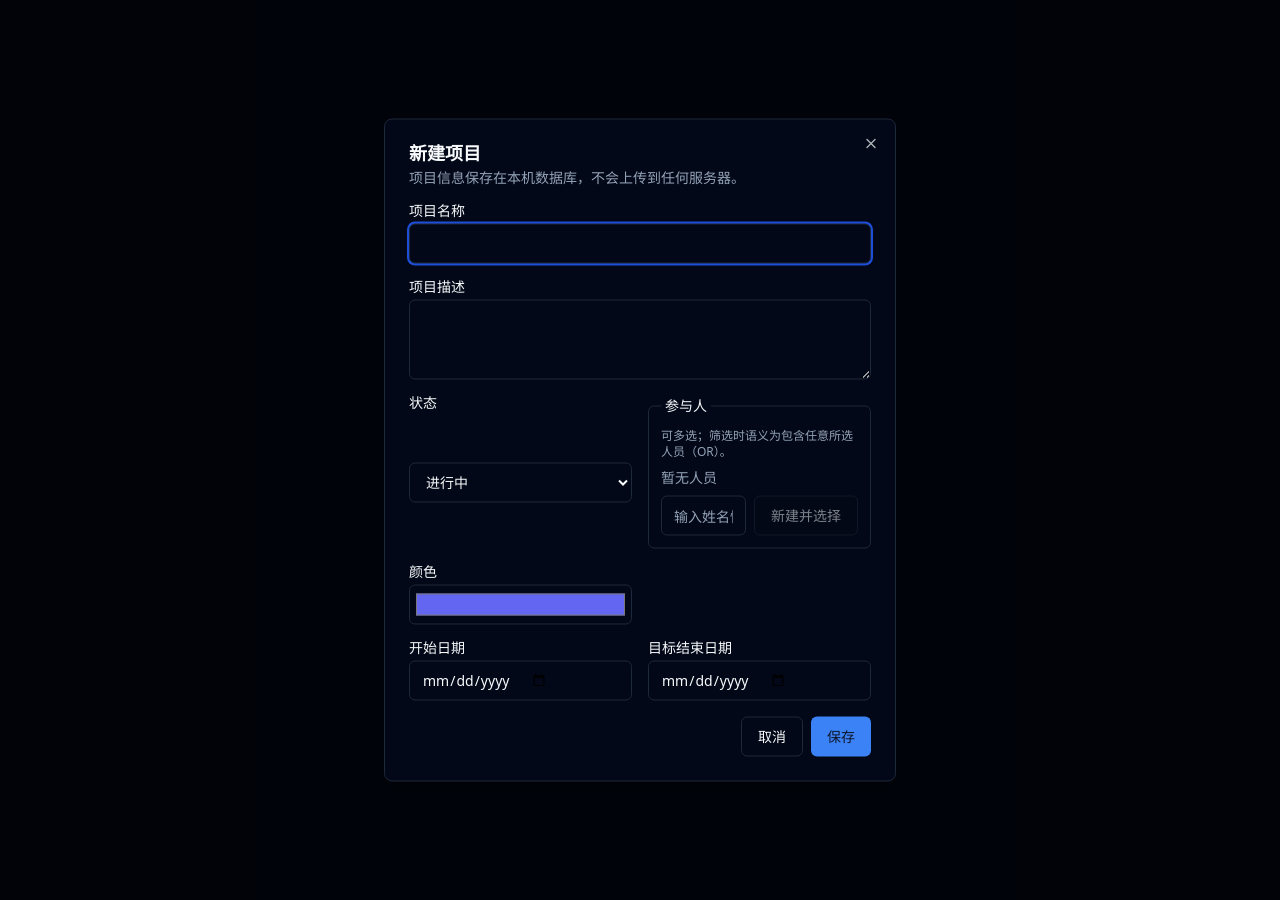
it: ProjectForm › keeps the dialog open and shows the service error when the write fails
The width and height of the screenshot is (1280, 900).
In the field labelled "项目名称": (640, 244) [409, 224, 871, 264], type "内网门户重构"
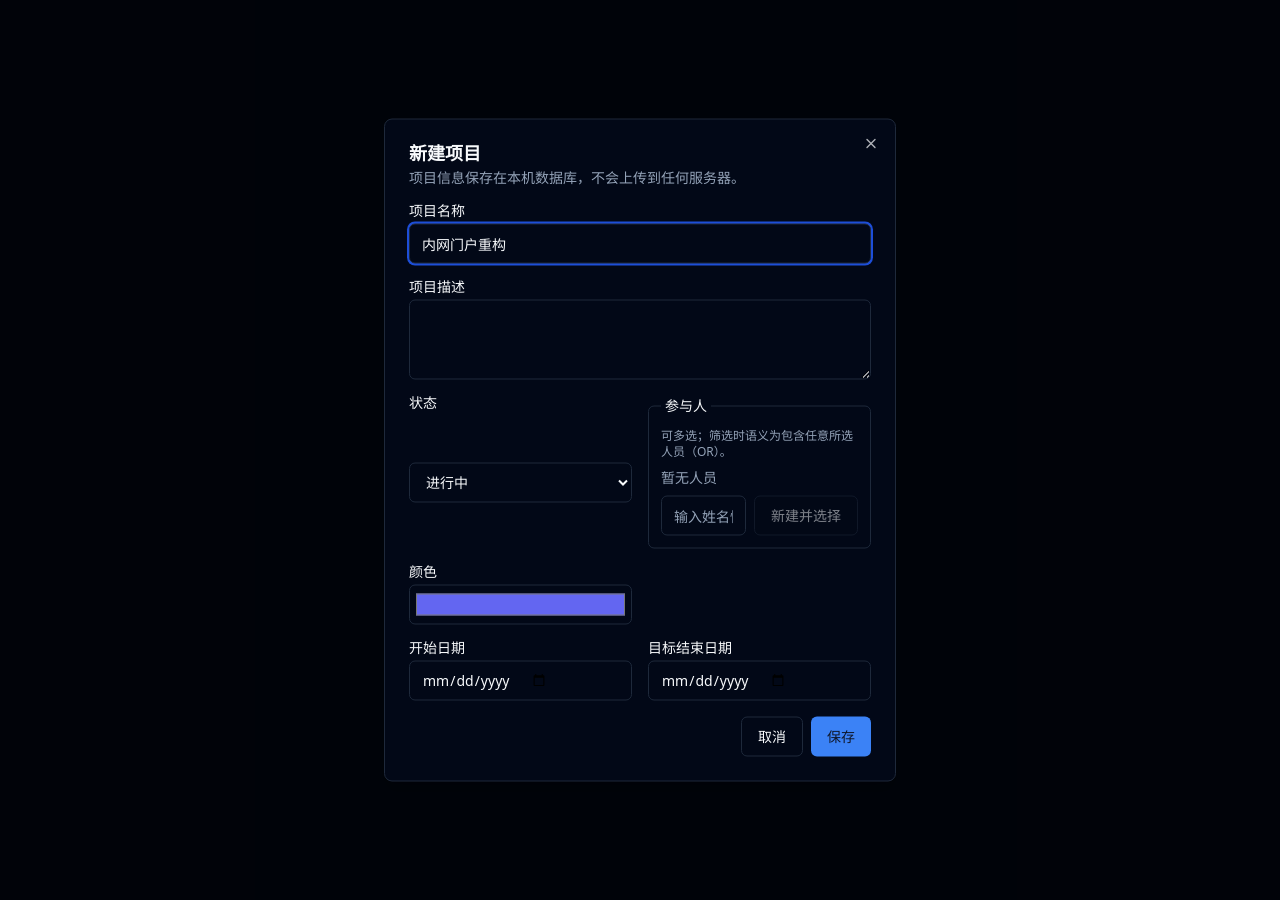
Click the button "保存": (841, 736) [811, 716, 871, 756]
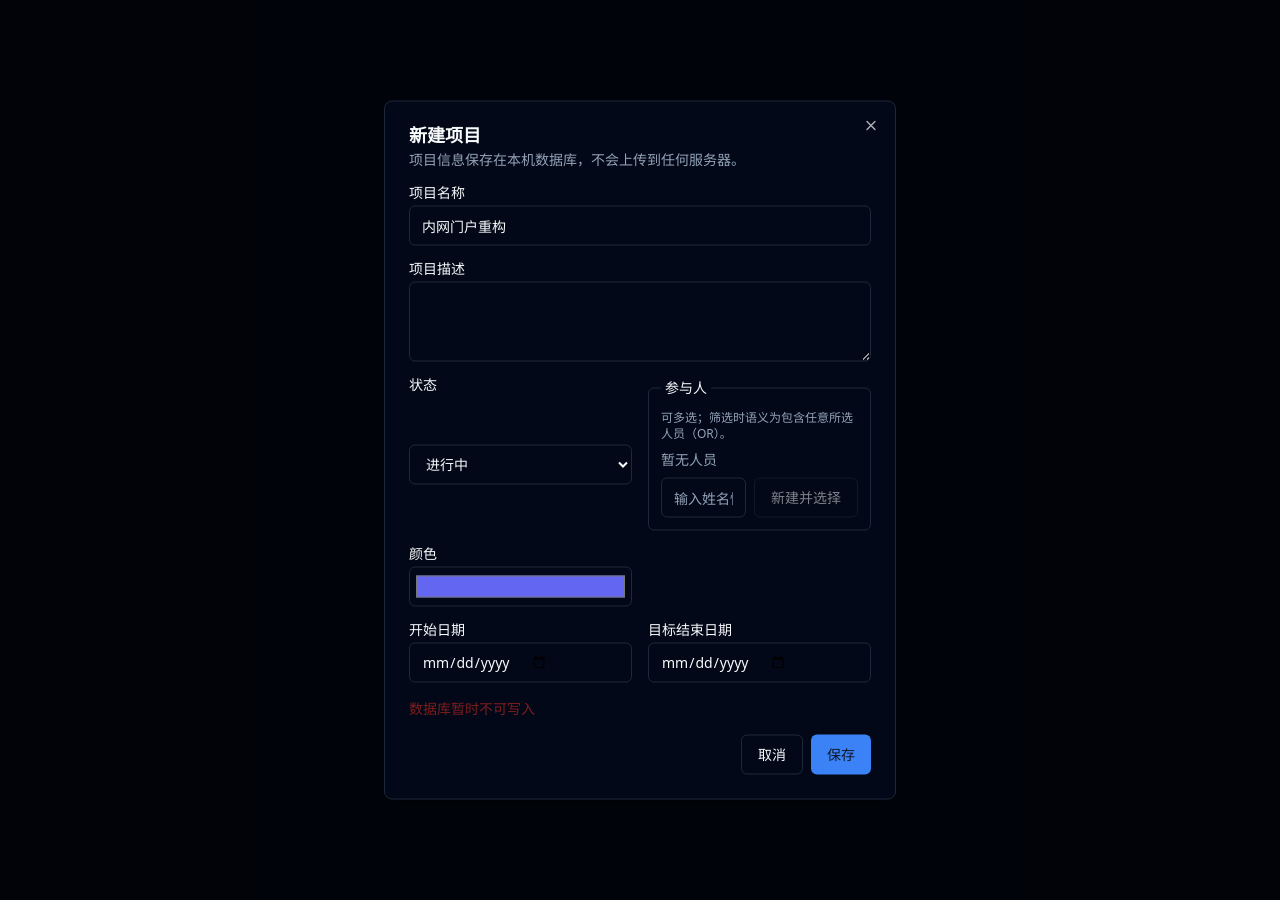
Check: the dialog is shown, box [384, 100, 896, 800]
Check: the text "数据库暂时不可写入" is shown, box [409, 698, 535, 718]
